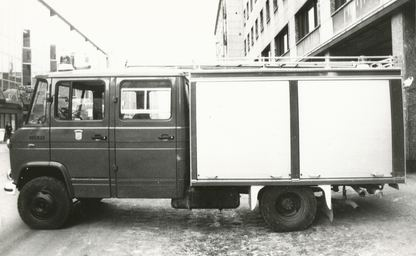truck: (0, 53, 413, 237)
